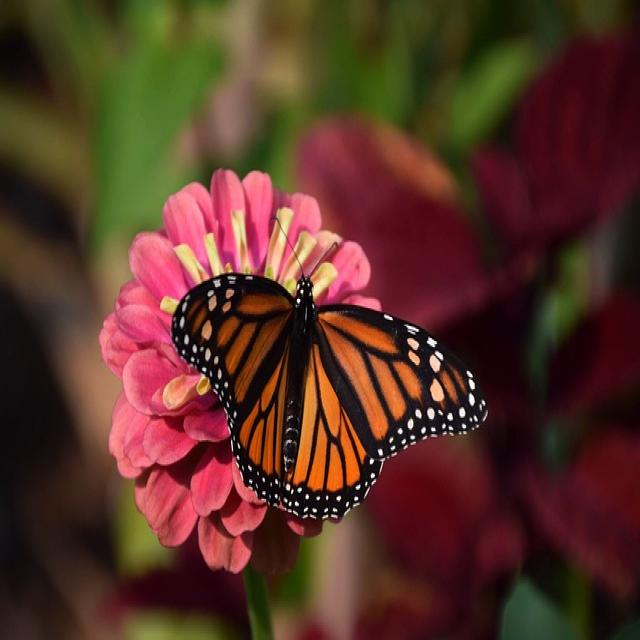butterfly: (171, 274, 486, 519)
